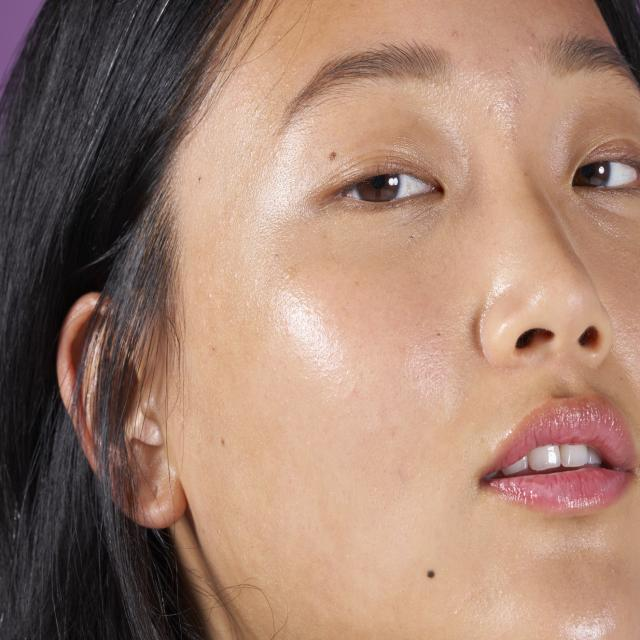Oily-Skin: (253, 167, 624, 603)
